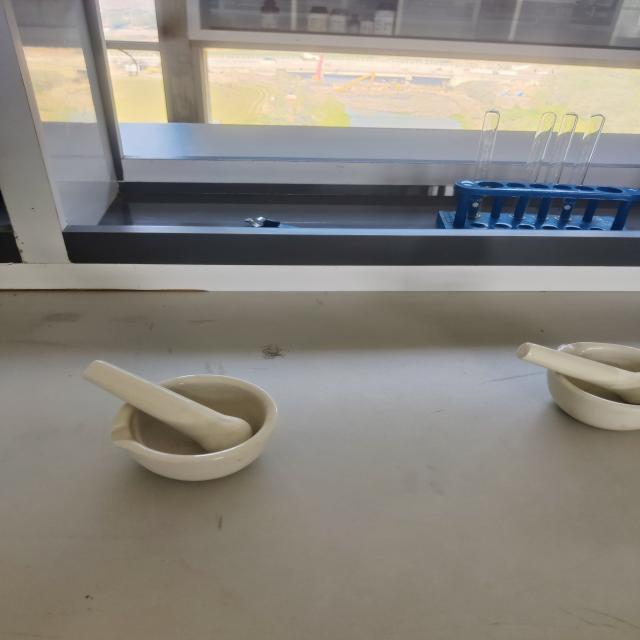Porcelain_Mortar Pestle: (52, 312, 299, 504), (478, 309, 640, 466)
